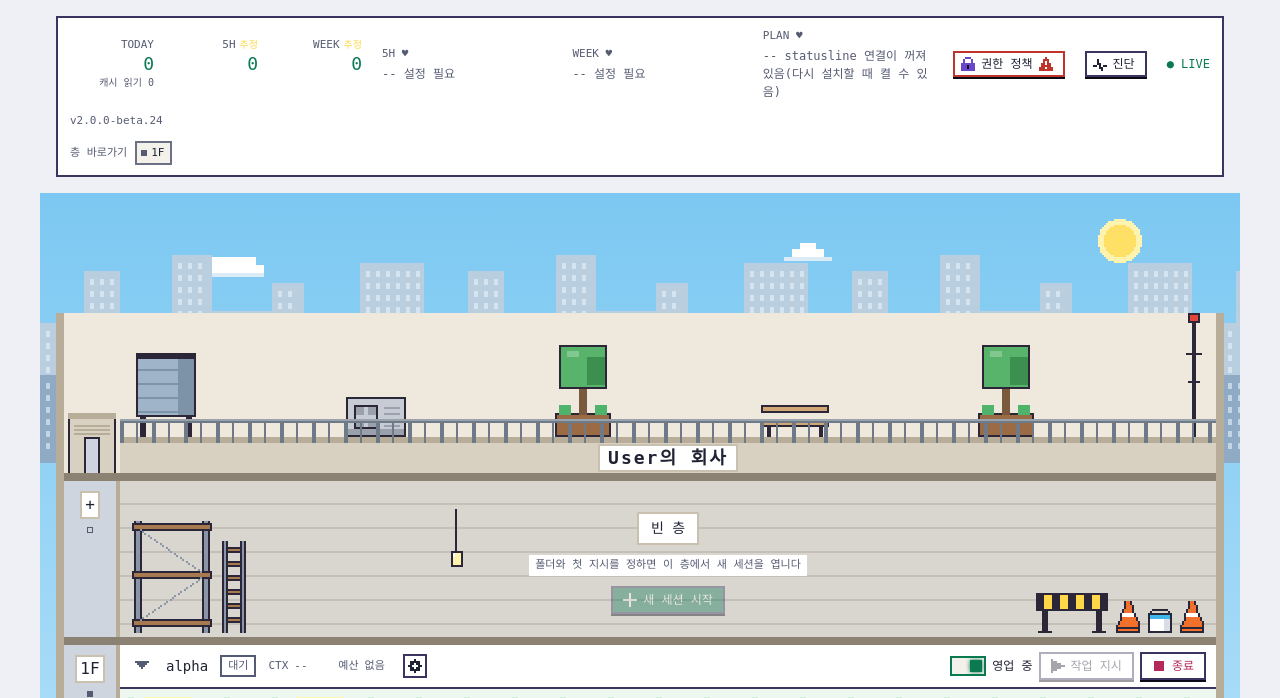
Test: 읽지 못한 정책 파일(B101) › 목록 맨 위에 경고가 보이고 HUD 버튼에 표시가 붙는다
The image size is (1280, 698).
Click the button with aria-label "권한 정책 열기" at [1009, 64], box [953, 51, 1065, 77]
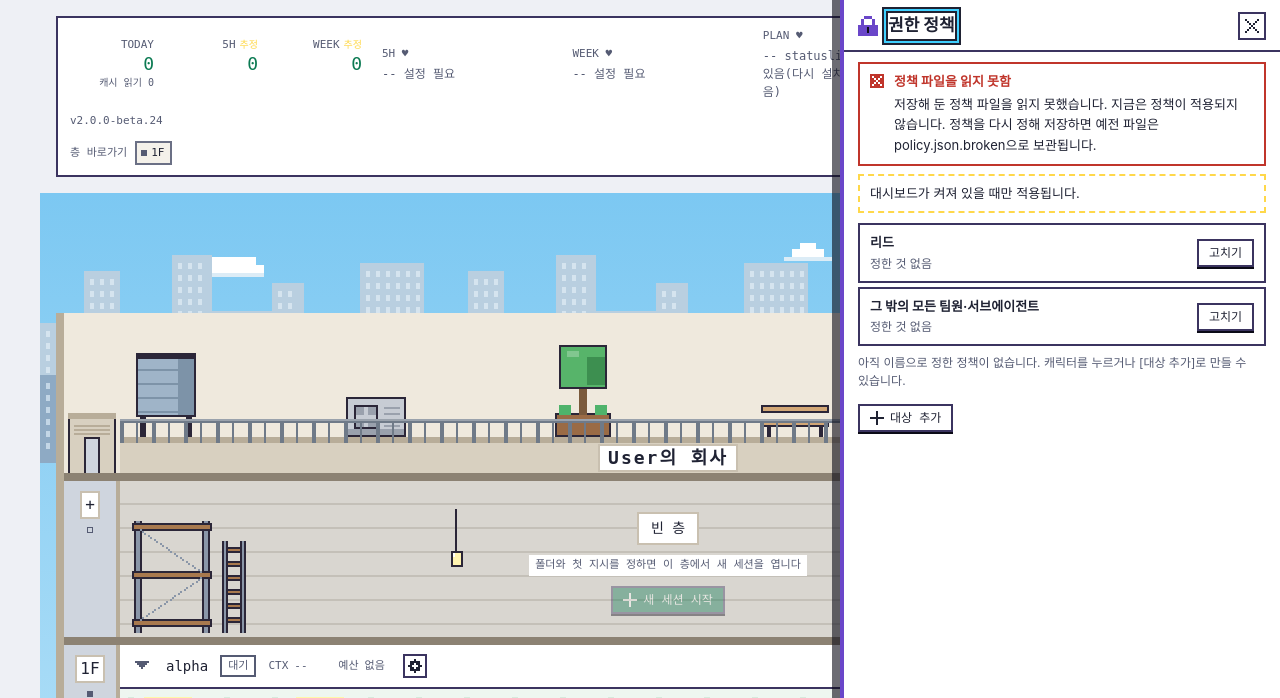
Check: the element that starts with "정책 파일을 읽지 못함" is shown, box [894, 73, 1011, 89]
Check: the text "대시보드가 켜져 있을 때만 적용됩니다." is shown, box [858, 174, 1266, 213]
